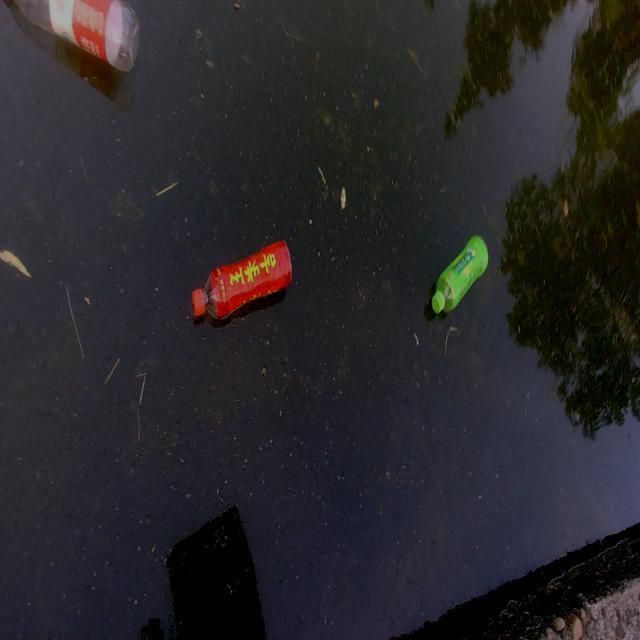bottle: (165, 215, 316, 348), (402, 211, 510, 337), (0, 0, 148, 78)
